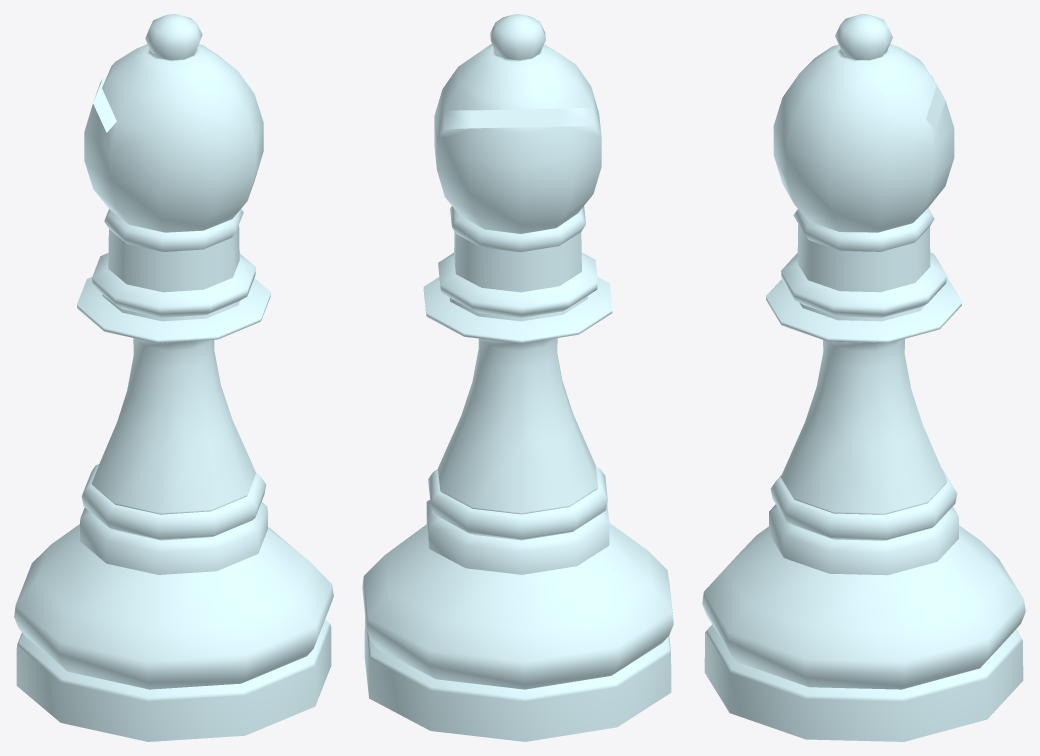
Rendered from item-2-2.glb.
The picture shows the model from 3 angles, left to right: view 1: azimuth 30°, elevation 25°; view 2: azimuth 150°, elevation 25°; view 3: azimuth 270°, elevation 25°; orthographic projection.
Parts seen in each view (by area): view 1: BlackBishop; view 2: BlackBishop; view 3: BlackBishop.
Boxes of the visible parts, box(x1,y1,x2,y2) form: BlackBishop: box(14, 14, 333, 741); BlackBishop: box(362, 14, 673, 741); BlackBishop: box(702, 14, 1025, 741).
Bounding box in the file's own units: 0.0928 × 0.2155 × 0.0958.
